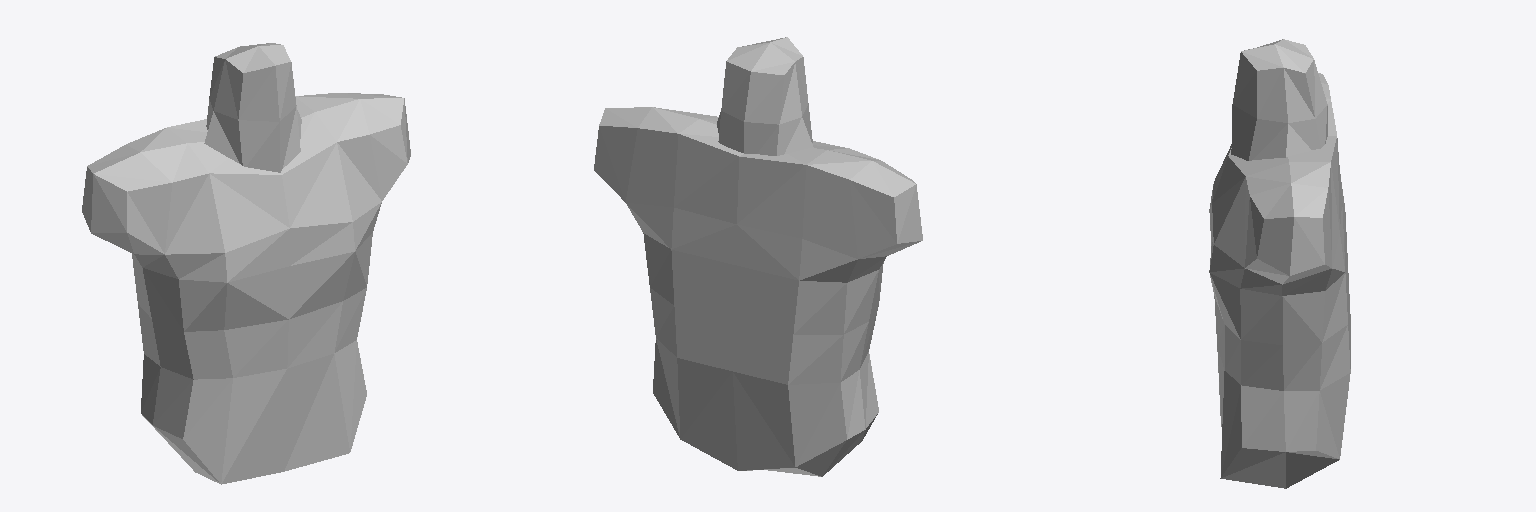
File: body.obj
3 renders of one model, left to right at view 1: azimuth 30°, elevation 25°; view 2: azimuth 150°, elevation 25°; view 3: azimuth 270°, elevation 25°, orthographic.
Parts seen in each view (by area): view 1: pCube5, pCube9; view 2: pCube5, pCube9; view 3: pCube5, pCube9.
Boxes of the visible parts, x1,y1,x2,y2 form: pCube5: [82, 93, 410, 484]; pCube9: [204, 43, 301, 172]; pCube5: [594, 107, 922, 476]; pCube9: [717, 37, 813, 155]; pCube5: [1209, 73, 1350, 488]; pCube9: [1231, 39, 1327, 160].
Bounding box in the file's own units: 14.04 × 17.75 × 5.37.